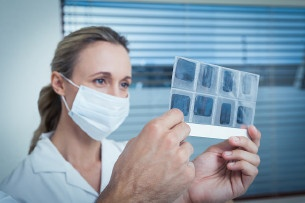Mask: (66, 65, 141, 141)
